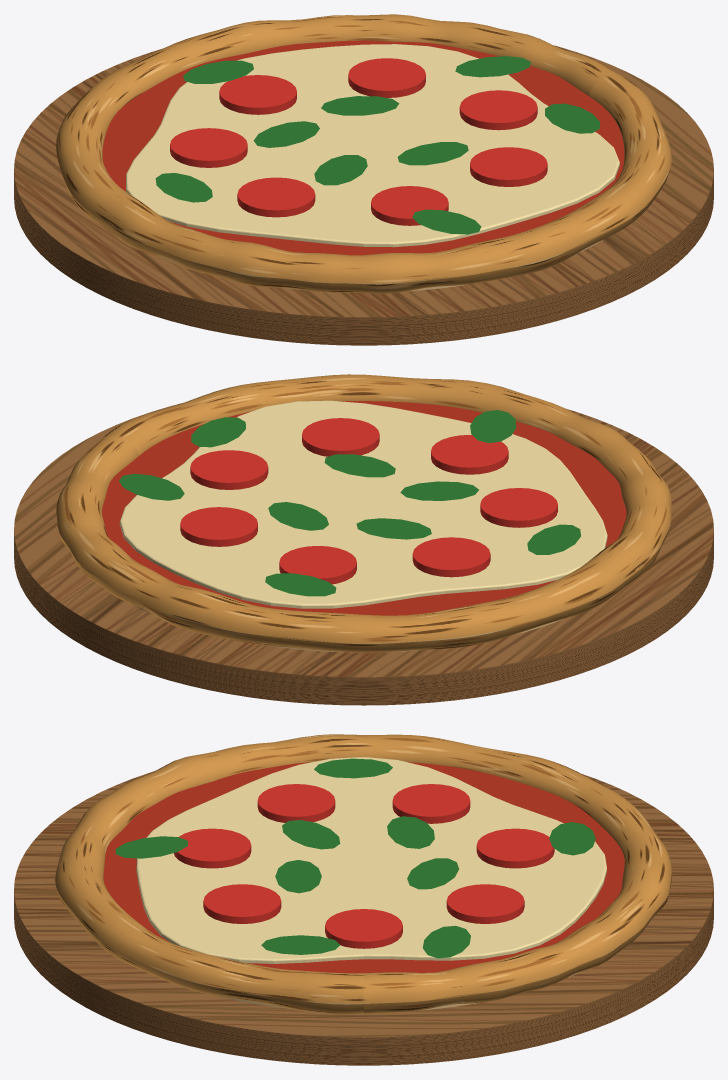
The model's file is pizza-margherita.glb.
The picture shows the model from 3 angles, top to bottom: view 1: azimuth 30°, elevation 25°; view 2: azimuth 150°, elevation 25°; view 3: azimuth 270°, elevation 25°; orthographic projection.
Size of the model in its own units: 0.36 by 0.0359 by 0.36.
7 materials, 2 textured.
